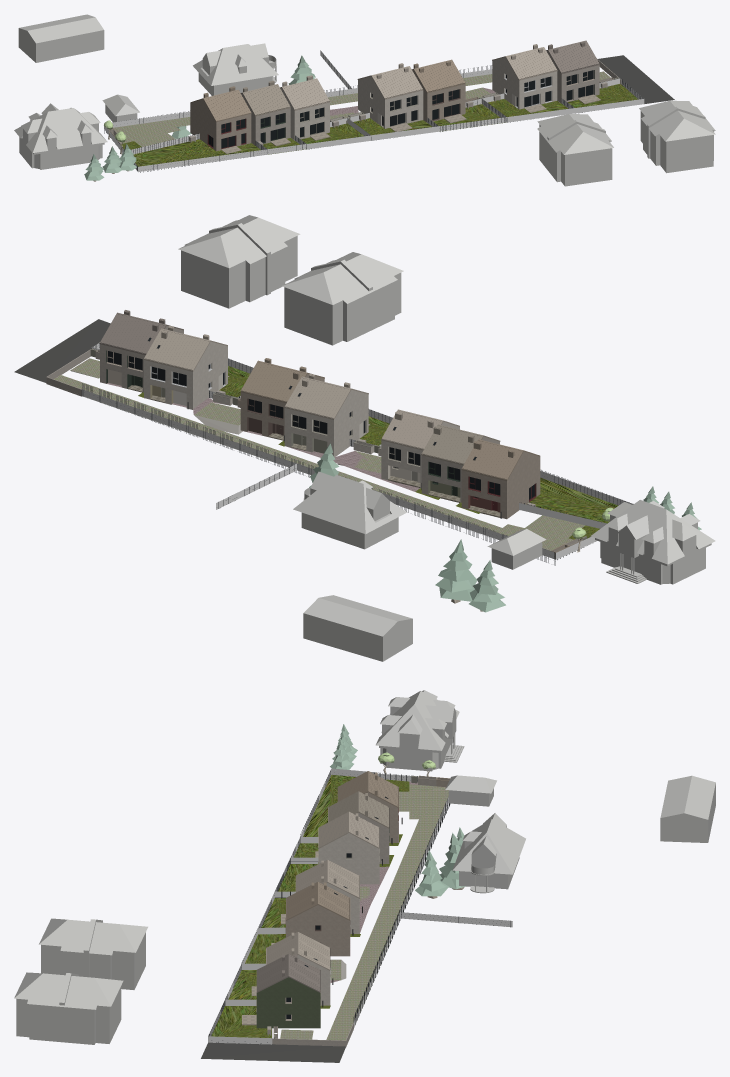
The model's file is zewnetrze-v9.glb.
The picture shows the model from 3 angles, top to bottom: view 1: azimuth 30°, elevation 25°; view 2: azimuth 150°, elevation 25°; view 3: azimuth 270°, elevation 25°; orthographic projection. The views are drawn at different scales.
Parts seen in each view (by area): view 1: ZIEMIA, OGRODZENIE_KOLIZJA, KONTEKST_8, KONTEKST_4, KONTEKST_2, DOM_D, DOM_B, KONTEKST_6, KONTEKST_5, DOM_G, DOM_C, DOM_A (+8 smaller); view 2: ZIEMIA, KONTEKST_8, KONTEKST_3, KONTEKST_1, KONTEKST_6, OGRODZENIE_KOLIZJA, DOM_B, DOM_D, KONTEKST_5, DOM_G, OGRODZENIA, ZIELEN (+7 smaller); view 3: ZIEMIA, KONTEKST_8, DOM_A, OGRODZENIE_KOLIZJA, KONTEKST_6, KONTEKST_3, DOM_C, KONTEKST_1, DOM_E, KONTEKST_5, KONTEKST_4, OGRODZENIA (+7 smaller).
Part boxes in pixels (left/top/right/bottom): ZIEMIA: left=113, top=55, right=674, bottom=166; OGRODZENIE_KOLIZJA: left=104, top=50, right=644, bottom=171; KONTEKST_8: left=14, top=103, right=107, bottom=169; KONTEKST_4: left=648, top=107, right=715, bottom=173; KONTEKST_2: left=547, top=121, right=613, bottom=186; DOM_D: left=357, top=63, right=423, bottom=128; DOM_B: left=492, top=44, right=557, bottom=109; KONTEKST_6: left=193, top=43, right=278, bottom=95; KONTEKST_5: left=18, top=14, right=104, bottom=62; DOM_G: left=190, top=86, right=251, bottom=150; DOM_C: left=412, top=59, right=465, bottom=122; DOM_A: left=546, top=40, right=599, bottom=103; ZIEMIA: left=14, top=319, right=618, bottom=550; KONTEKST_8: left=590, top=500, right=715, bottom=584; KONTEKST_3: left=178, top=224, right=268, bottom=308; KONTEKST_1: left=282, top=260, right=371, bottom=345; KONTEKST_6: left=293, top=471, right=407, bottom=549; OGRODZENIE_KOLIZJA: left=82, top=342, right=633, bottom=559; DOM_B: left=143, top=325, right=227, bottom=409; DOM_D: left=284, top=374, right=368, bottom=457; KONTEKST_5: left=303, top=595, right=412, bottom=661; DOM_G: left=461, top=439, right=540, bottom=519; OGRODZENIA: left=46, top=343, right=631, bottom=565; ZIELEN: left=309, top=443, right=701, bottom=612; ZIEMIA: left=201, top=775, right=448, bottom=1062; KONTEKST_8: left=375, top=690, right=464, bottom=771; DOM_A: left=256, top=954, right=320, bottom=1028; OGRODZENIE_KOLIZJA: left=208, top=768, right=512, bottom=1044; KONTEKST_6: left=452, top=813, right=525, bottom=893; KONTEKST_3: left=61, top=973, right=123, bottom=1044; DOM_C: left=285, top=882, right=350, bottom=956; KONTEKST_1: left=86, top=919, right=147, bottom=989; DOM_E: left=318, top=811, right=379, bottom=884; KONTEKST_5: left=660, top=775, right=715, bottom=842; KONTEKST_4: left=14, top=972, right=68, bottom=1042; OGRODZENIA: left=208, top=770, right=510, bottom=1046.
Size of the model in its own units: 121 by 19.43 by 110.
58 materials, 9 textured.
